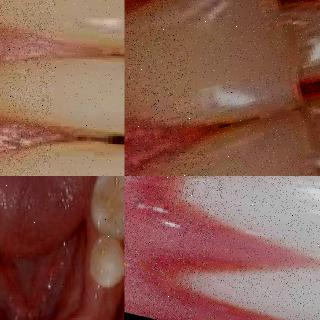Gum Swelling: (124, 232, 223, 320), (0, 20, 48, 176), (124, 176, 190, 251)
